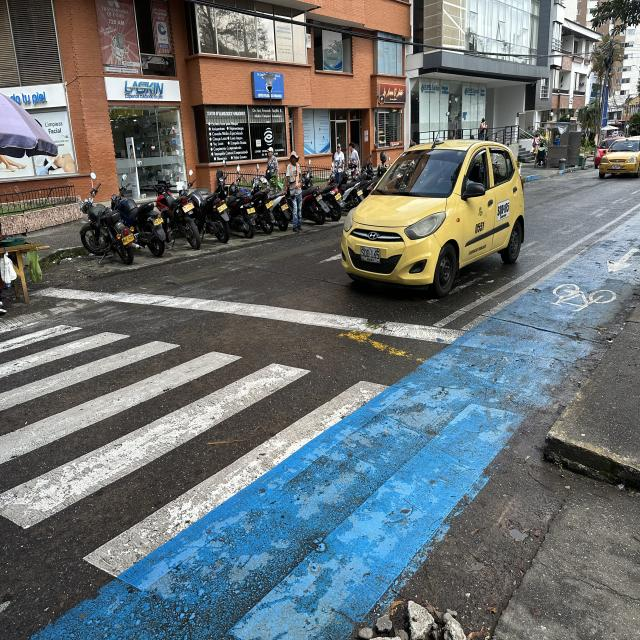number plate: (360, 246, 380, 263), (122, 233, 135, 246), (152, 216, 164, 227), (182, 202, 194, 213), (217, 203, 228, 213), (265, 200, 274, 209), (246, 207, 256, 214), (281, 203, 289, 211), (335, 193, 342, 201), (316, 194, 322, 202), (357, 189, 363, 196)
